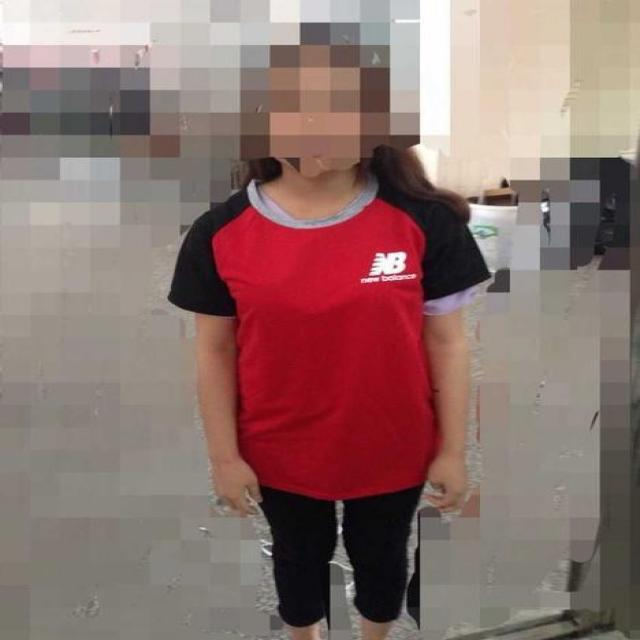short-sleeve-top: (178, 166, 499, 502)
trousers: (229, 508, 462, 635)
